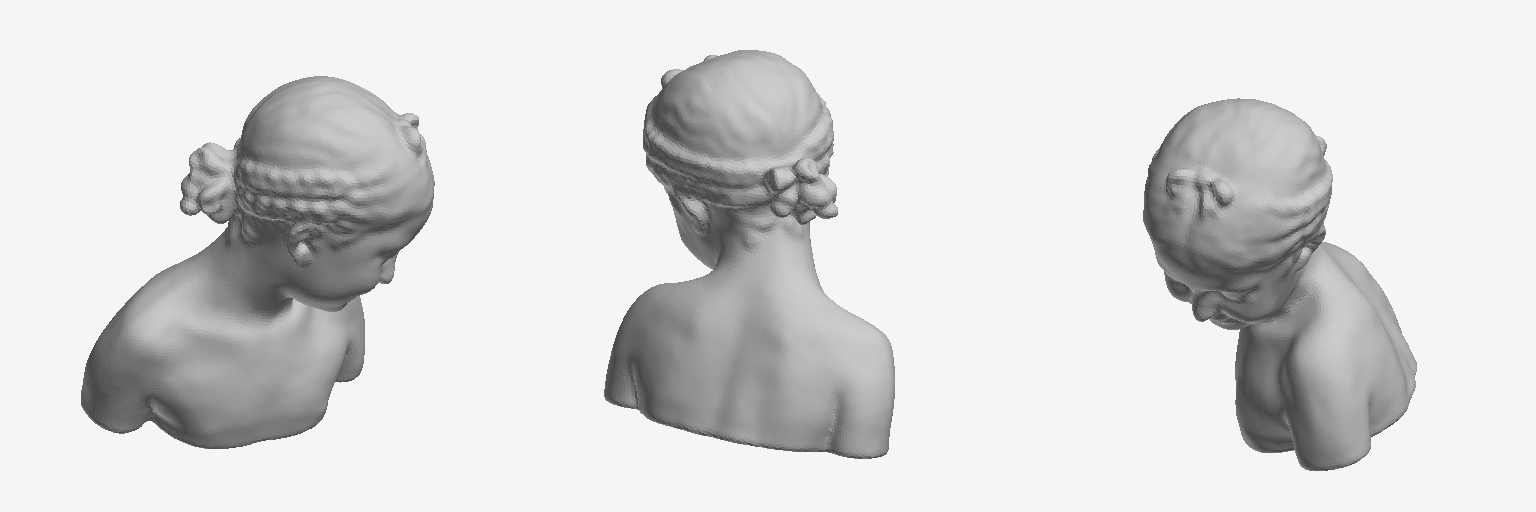
The model's file is bimba.obj.
3 views of the same model, side by side, from view 1: azimuth 30°, elevation 25°; view 2: azimuth 150°, elevation 25°; view 3: azimuth 270°, elevation 25° (orthographic).
Size of the model in its own units: 28.74 by 33.17 by 23.95.